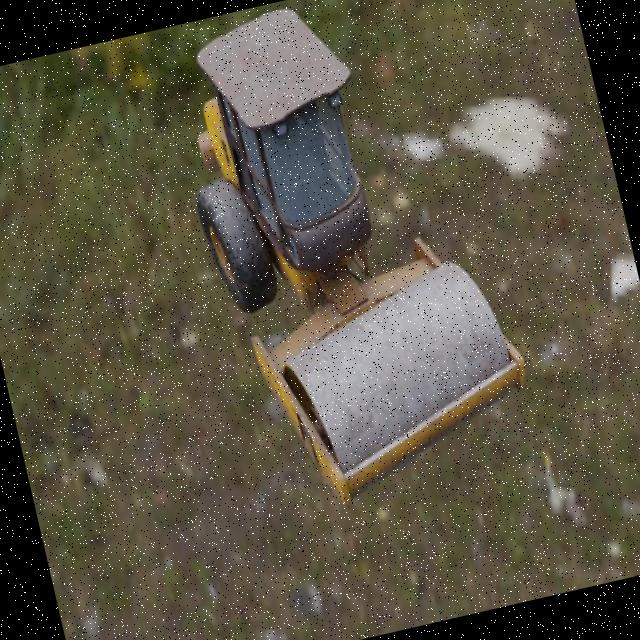Roller: (156, 0, 547, 527)
